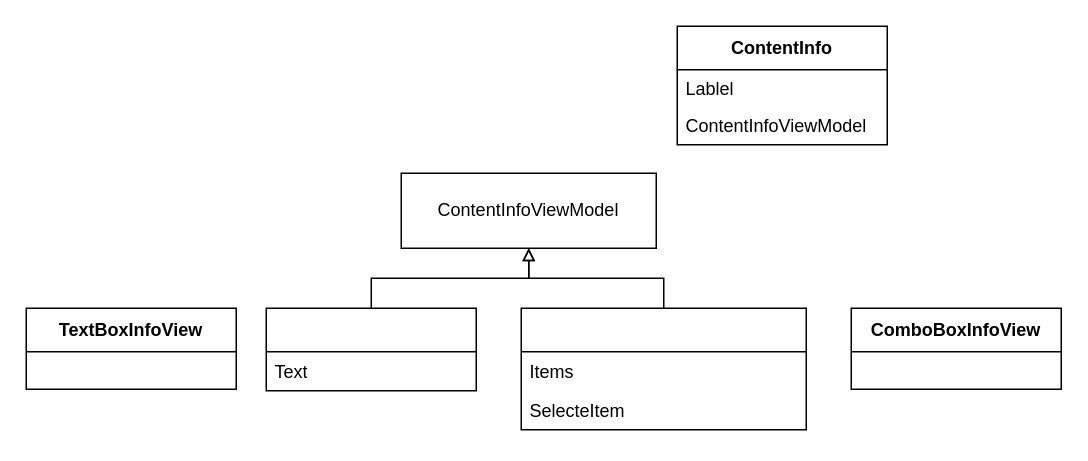
The diagram is 1088 pixels wide and 461 high, and some of its shapes have lost their labels. Here are the shapes that lost their labels. From the top down, the box of each, then its label:
(265, 307, 476, 391): TextBoxInfoViewModel
(520, 307, 806, 430): ComboBoxInfoViewModel
